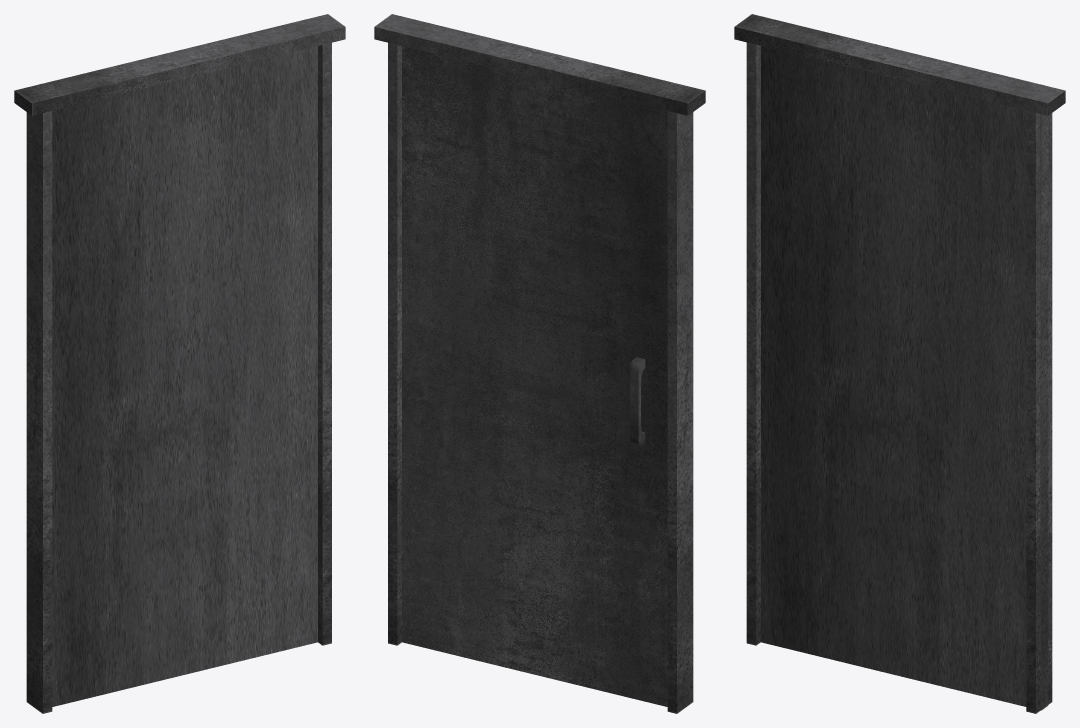
The model's file is TheStairwayDoors.fbx.
3 views of the same model, side by side, from view 1: azimuth 30°, elevation 25°; view 2: azimuth 150°, elevation 25°; view 3: azimuth 330°, elevation 25° (orthographic).
Visible parts, largest first — view 1: Cube.152, Cube.154, Cube.155, Cube.153; view 2: Cube.152, Cube.154, Cube.155, Cube.153, Cube.156; view 3: Cube.152, Cube.153, Cube.155, Cube.154.
Part boxes in pixels (x1,y1,x2,y2): Cube.152: (52,46,317,706); Cube.154: (26,111,52,713); Cube.155: (14,14,345,115); Cube.153: (318,42,331,645); Cube.152: (402,46,667,706); Cube.154: (667,111,693,713); Cube.155: (374,14,705,115); Cube.153: (388,42,401,645); Cube.156: (630,357,645,445); Cube.152: (761,46,1048,710); Cube.153: (1026,110,1052,713); Cube.155: (734,14,1065,115); Cube.154: (746,42,760,645).
Size of the model in its own units: 237 by 443 by 24.7.
